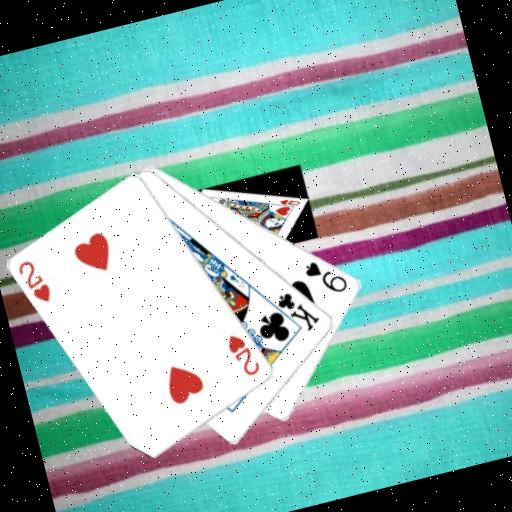2H: (13, 254, 55, 310), (223, 327, 264, 382)
9S: (300, 252, 351, 302)
KC: (264, 283, 324, 341)
